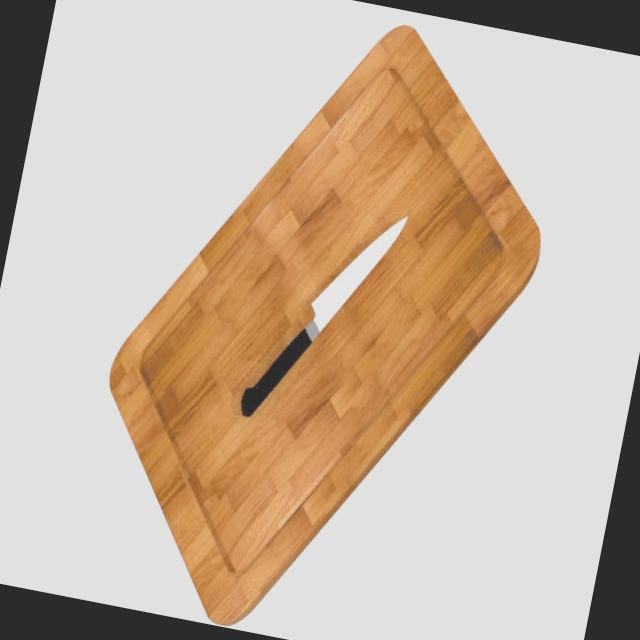knife: (238, 319, 314, 427)
